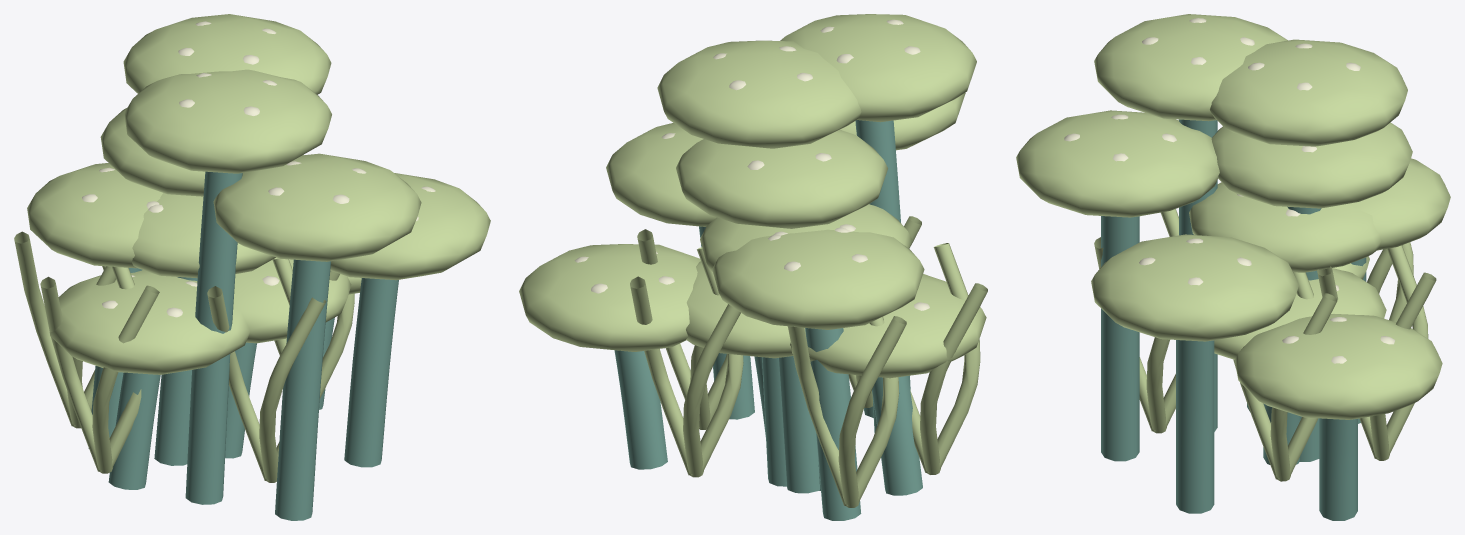
File: bio_spore_fungus_24_far.glb
3 views of the same model, side by side, from view 1: azimuth 30°, elevation 25°; view 2: azimuth 150°, elevation 25°; view 3: azimuth 270°, elevation 25° (orthographic). The views are drawn at different scales.
Parts seen in each view (by area): view 1: Thick umbrella cap.007, Thick umbrella cap.002, Thick umbrella cap.004, Thick umbrella cap.003, Curved stipe.007, Thick umbrella cap.001, Curved stipe.002, Thick umbrella cap.005, Curved stipe.005, Spiral filament.012, Spiral filament.006, Thick umbrella cap.009 (+8 smaller); view 2: Thick umbrella cap.003, Thick umbrella cap.001, Thick umbrella cap.006, Thick umbrella cap.008, Thick umbrella cap.007, Thick umbrella cap.004, Spiral filament.003, Spiral filament.009, Thick umbrella cap.005, Spiral filament.012, Curved stipe.008, Thick umbrella cap (+9 smaller); view 3: Thick umbrella cap.005, Thick umbrella cap.002, Thick umbrella cap.008, Thick umbrella cap.003, Thick umbrella cap.007, Thick umbrella cap.006, Thick umbrella cap.009, Curved stipe.002, Curved stipe.005, Thick umbrella cap.001, Spiral filament.009, Spiral filament (+6 smaller).
Part boxes in pixels (x1=…): Thick umbrella cap.007: x1=124, y1=69, x2=331, y2=173; Thick umbrella cap.002: x1=213, y1=153, x2=421, y2=261; Thick umbrella cap.004: x1=49, y1=270, x2=250, y2=374; Thick umbrella cap.003: x1=123, y1=14, x2=331, y2=94; Curved stipe.007: x1=185, y1=171, x2=242, y2=504; Thick umbrella cap.001: x1=27, y1=163, x2=162, y2=268; Curved stipe.002: x1=275, y1=259, x2=330, y2=520; Thick umbrella cap.005: x1=330, y1=173, x2=490, y2=280; Curved stipe.005: x1=344, y1=278, x2=398, y2=467; Spiral filament.012: x1=40, y1=266, x2=159, y2=473; Spiral filament.006: x1=207, y1=257, x2=326, y2=482; Thick umbrella cap.009: x1=132, y1=193, x2=275, y2=278; Thick umbrella cap.003: x1=657, y1=40, x2=861, y2=148; Thick umbrella cap.001: x1=712, y1=229, x2=924, y2=329; Thick umbrella cap.006: x1=676, y1=129, x2=887, y2=228; Thick umbrella cap.008: x1=519, y1=244, x2=700, y2=351; Thick umbrella cap.007: x1=780, y1=14, x2=976, y2=122; Thick umbrella cap.004: x1=790, y1=274, x2=986, y2=378; Spiral filament.003: x1=788, y1=316, x2=906, y2=507; Spiral filament.009: x1=630, y1=247, x2=743, y2=477; Thick umbrella cap.005: x1=606, y1=123, x2=716, y2=226; Spiral filament.012: x1=910, y1=243, x2=987, y2=474; Curved stipe.008: x1=614, y1=350, x2=667, y2=469; Thick umbrella cap: x1=686, y1=261, x2=793, y2=358; Thick umbrella cap.005: x1=1091, y1=234, x2=1298, y2=341; Thick umbrella cap.002: x1=1016, y1=110, x2=1219, y2=217; Thick umbrella cap.008: x1=1234, y1=314, x2=1442, y2=419; Thick umbrella cap.003: x1=1210, y1=39, x2=1407, y2=146; Thick umbrella cap.007: x1=1094, y1=14, x2=1287, y2=121; Thick umbrella cap.006: x1=1211, y1=122, x2=1412, y2=208; Thick umbrella cap.009: x1=1189, y1=182, x2=1381, y2=272; Curved stipe.002: x1=1101, y1=216, x2=1139, y2=461; Curved stipe.005: x1=1176, y1=340, x2=1214, y2=513; Thick umbrella cap.001: x1=1349, y1=158, x2=1450, y2=250; Spiral filament.009: x1=1317, y1=245, x2=1436, y2=460; Spiral filament: x1=1233, y1=272, x2=1337, y2=481.
Bounding box in the file's own units: 2.1 × 1.97 × 1.92.
